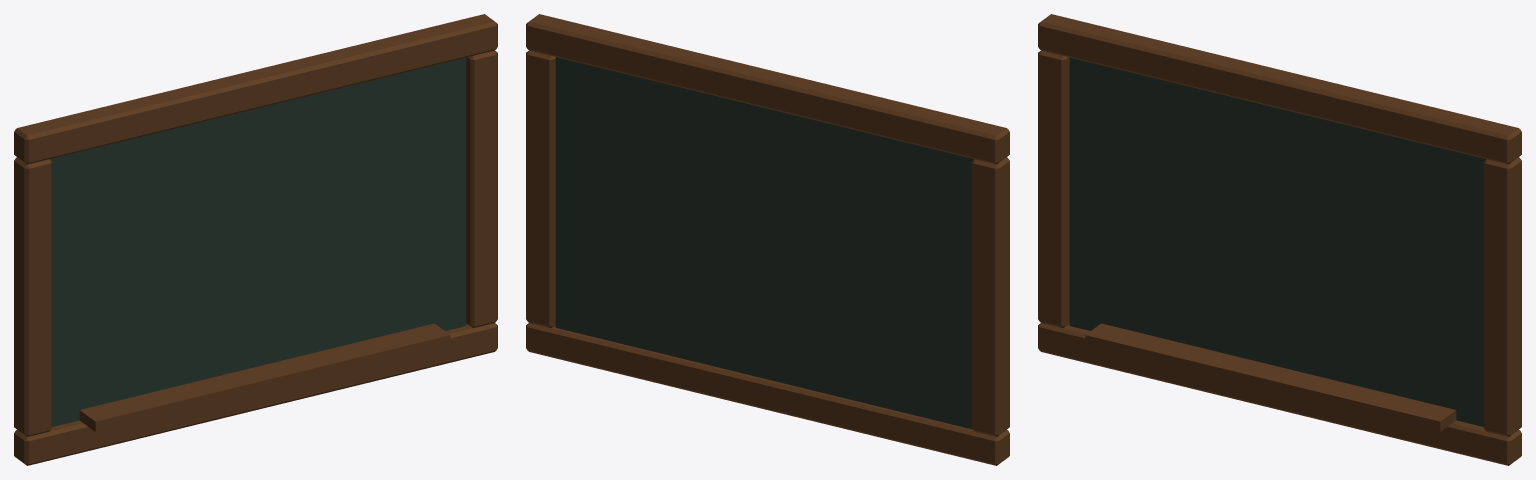
File: Prop_OR_ParlayChalkboard_LOD1.glb
3 views of the same model, side by side, from view 1: azimuth 30°, elevation 25°; view 2: azimuth 150°, elevation 25°; view 3: azimuth 330°, elevation 25° (orthographic).
Parts seen in each view (by area): view 1: Prop_OR_ParlayChalkboard; view 2: Prop_OR_ParlayChalkboard; view 3: Prop_OR_ParlayChalkboard.
Part boxes in pixels (bbox=[...]): Prop_OR_ParlayChalkboard: bbox=[14, 14, 497, 465]; Prop_OR_ParlayChalkboard: bbox=[526, 14, 1009, 465]; Prop_OR_ParlayChalkboard: bbox=[1038, 14, 1521, 465].
Bounding box in the file's own units: 1.2 × 0.8 × 0.105.
